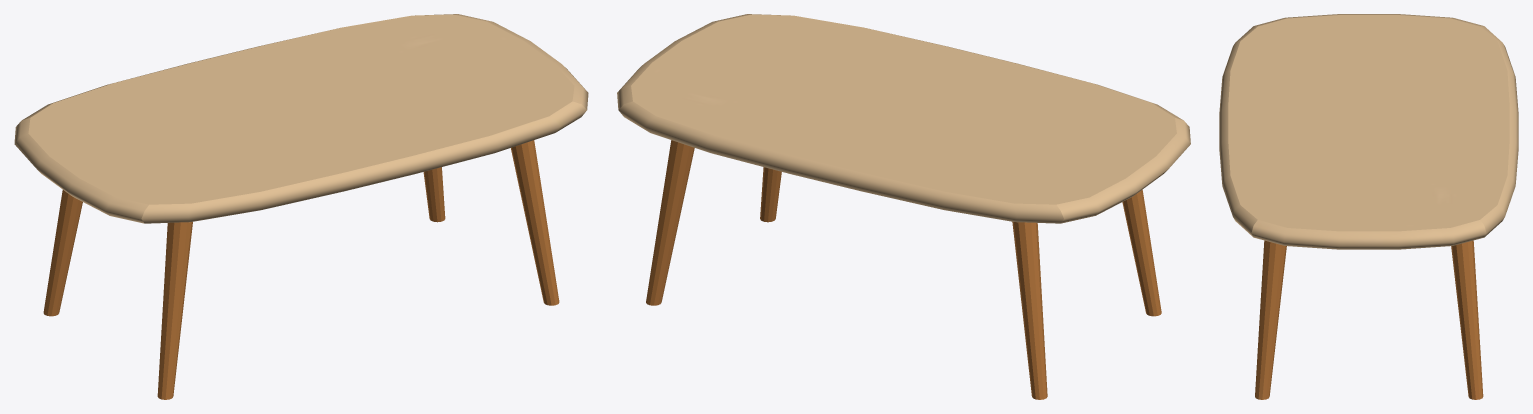
File: round_low_table.fbx
The picture shows the model from 3 angles, left to right: view 1: azimuth 30°, elevation 25°; view 2: azimuth 150°, elevation 25°; view 3: azimuth 270°, elevation 25°; orthographic projection. The views are drawn at different scales.
Visible parts, largest first — view 1: pCylinder5; view 2: pCylinder5; view 3: pCylinder5.
Boxes of the visible parts, x1=… form: pCylinder5: x1=14, y1=14, x2=588, y2=399; pCylinder5: x1=617, y1=14, x2=1190, y2=399; pCylinder5: x1=1219, y1=14, x2=1518, y2=399.
Size of the model in its own units: 0.8988 by 0.3406 by 0.4986.
Materials: 1 (1 with a texture image).
